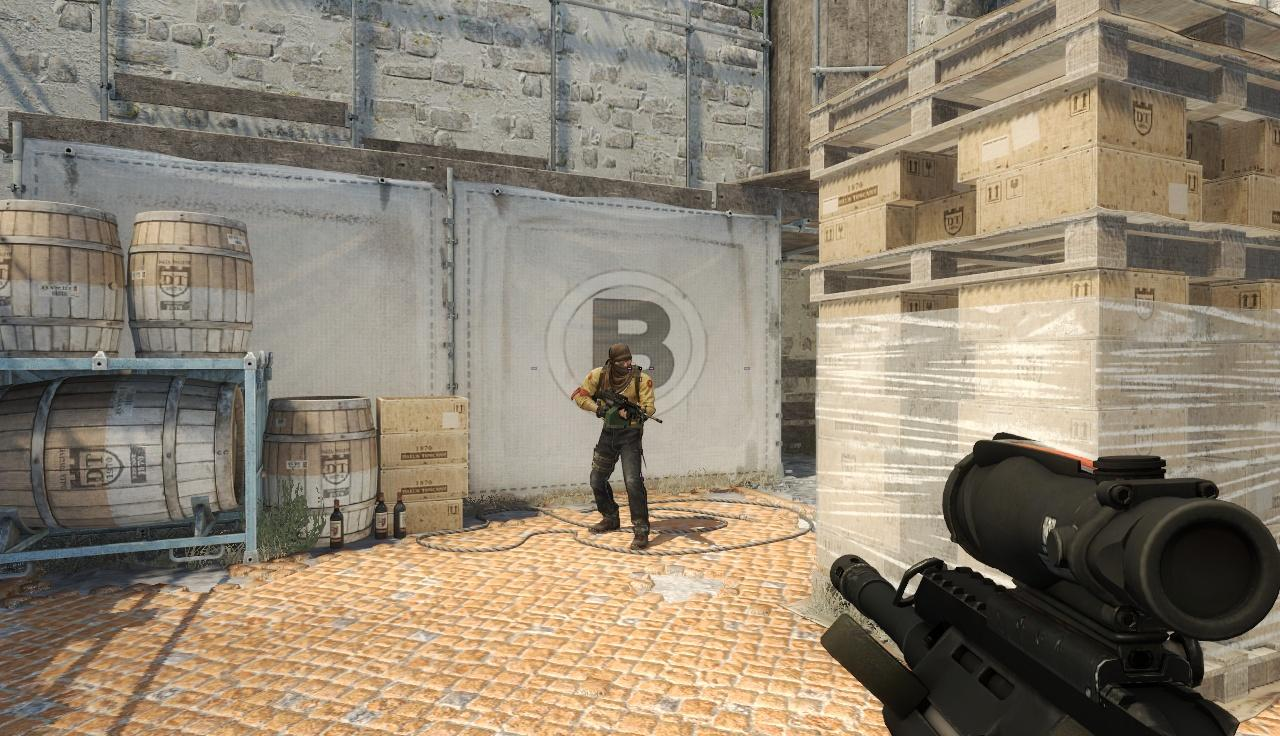rifle: (833, 426, 1280, 732)
tt: (582, 345, 649, 543)
tthead: (608, 345, 636, 376)
